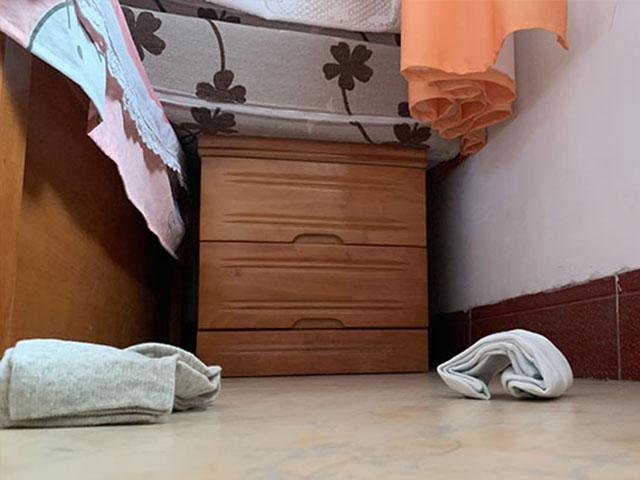bed: (1, 1, 192, 340)
cabinet: (192, 131, 432, 378)
socks: (1, 340, 222, 429), (436, 329, 576, 403)
